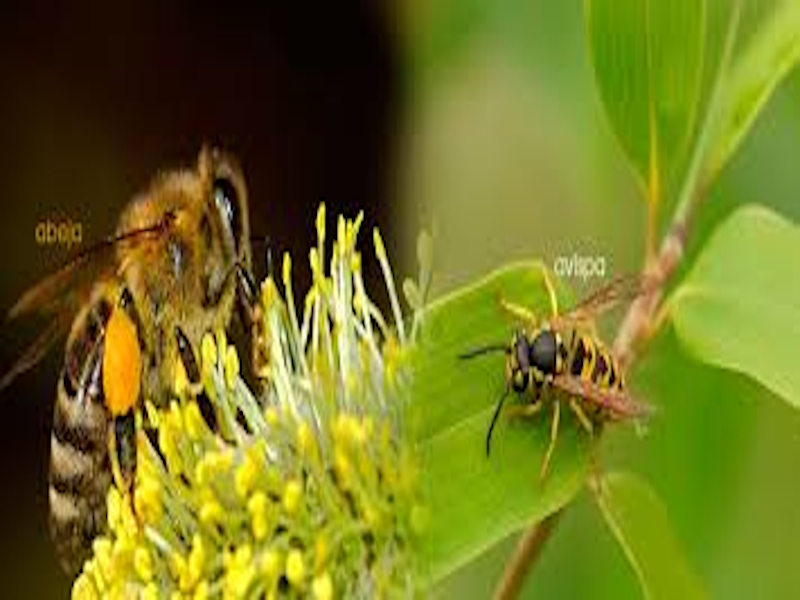abeja: (1, 116, 295, 570)
chax: (459, 248, 678, 473)
